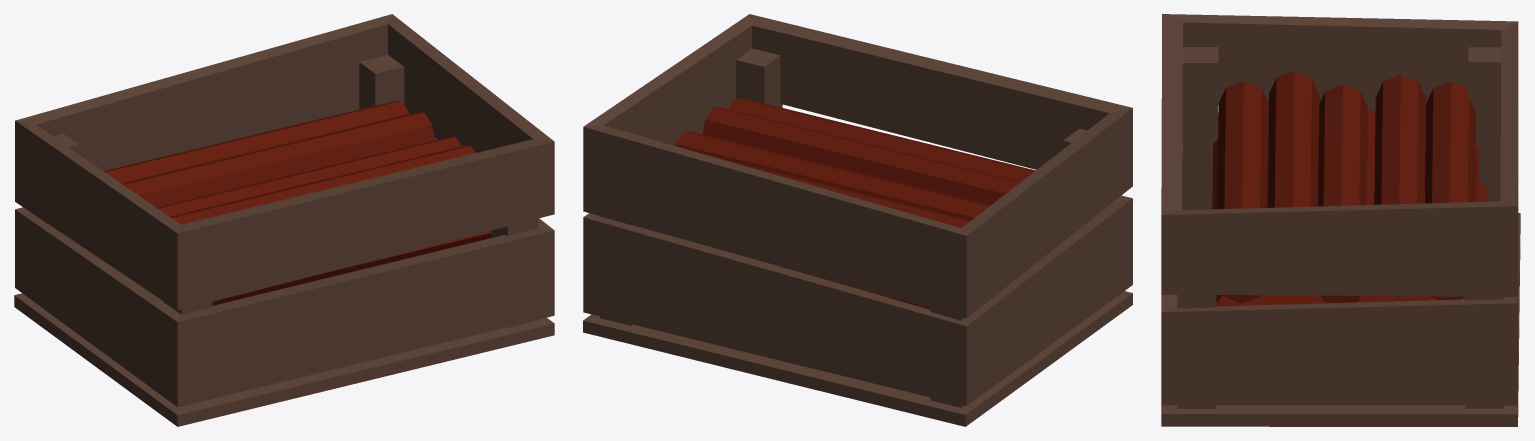
Rendered from TNT Box Open.glb.
3 renders of one model, left to right at view 1: azimuth 30°, elevation 25°; view 2: azimuth 150°, elevation 25°; view 3: azimuth 270°, elevation 25°, orthographic. The views are drawn at different scales.
Visible parts, largest first — view 1: TNT Box Open; view 2: TNT Box Open; view 3: TNT Box Open.
Part boxes in pixels (x1,y1,x2,y2): TNT Box Open: (14,14,554,426); TNT Box Open: (583,14,1132,426); TNT Box Open: (1161,14,1520,426).
Size of what is drawn, in the model's own units: 0.6168 by 0.3154 by 0.4651.
Materials: 1 (1 with a texture image).
